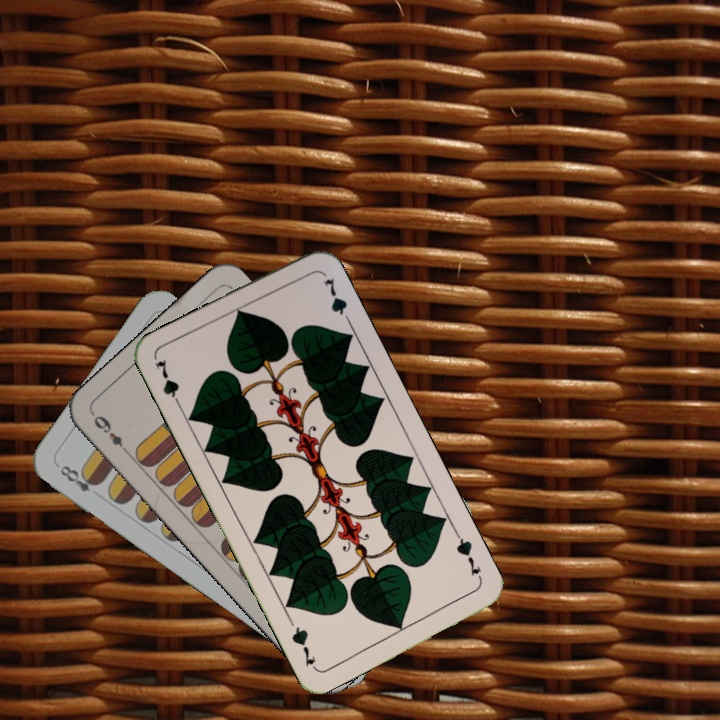E8: (55, 461, 103, 495)
E9: (89, 411, 132, 458)
G7: (151, 355, 185, 412), (452, 529, 485, 580)
